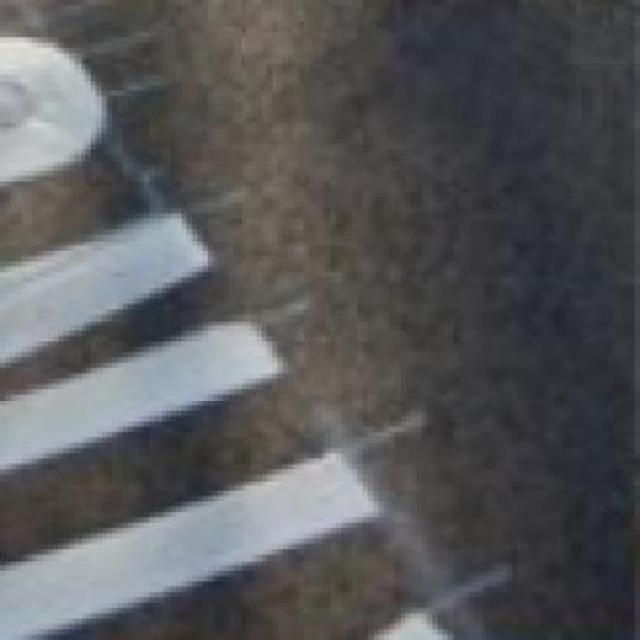crosswalk: (0, 220, 477, 640)
